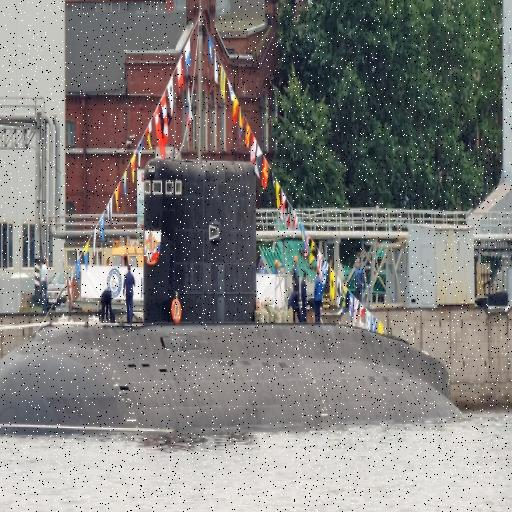submarine: (1, 159, 472, 429)
